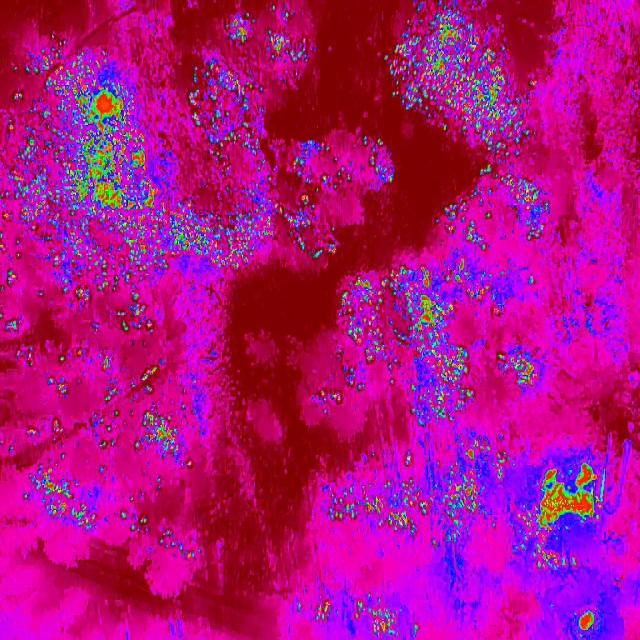fire: (0, 46, 169, 336), (22, 348, 203, 562), (318, 437, 519, 554), (339, 262, 482, 423), (170, 55, 268, 271), (391, 0, 514, 105), (519, 456, 610, 576), (268, 134, 334, 258), (476, 163, 554, 252), (224, 3, 319, 71), (310, 590, 420, 640), (334, 133, 398, 192), (425, 105, 531, 140), (434, 192, 474, 253), (494, 344, 540, 392), (563, 607, 610, 640)
